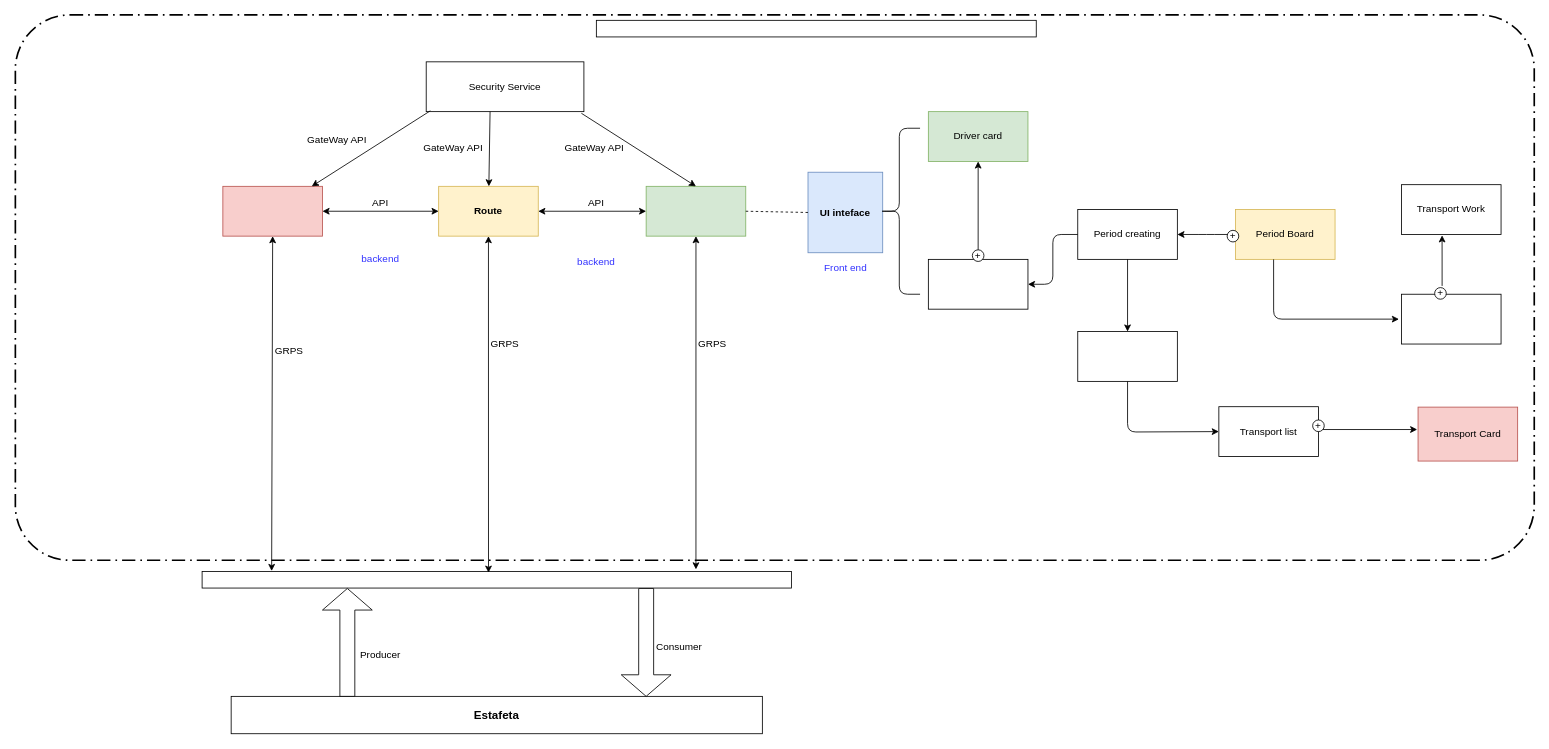
Image size: 1549x749. Some labels were removed from this diagram. The shapes that lost their labels are listed below. From the top down, each one's centre as x and y in pixels, then its label:
(x=816, y=28): TMS
(x=272, y=211): Transport
(x=695, y=211): Driver
(x=978, y=284): User list
(x=1451, y=318): Transport Works
(x=1127, y=356): List of boards
(x=496, y=579): RabbitMQ
